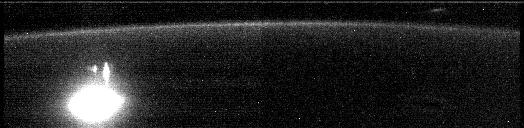positive: (85, 61, 112, 86)
